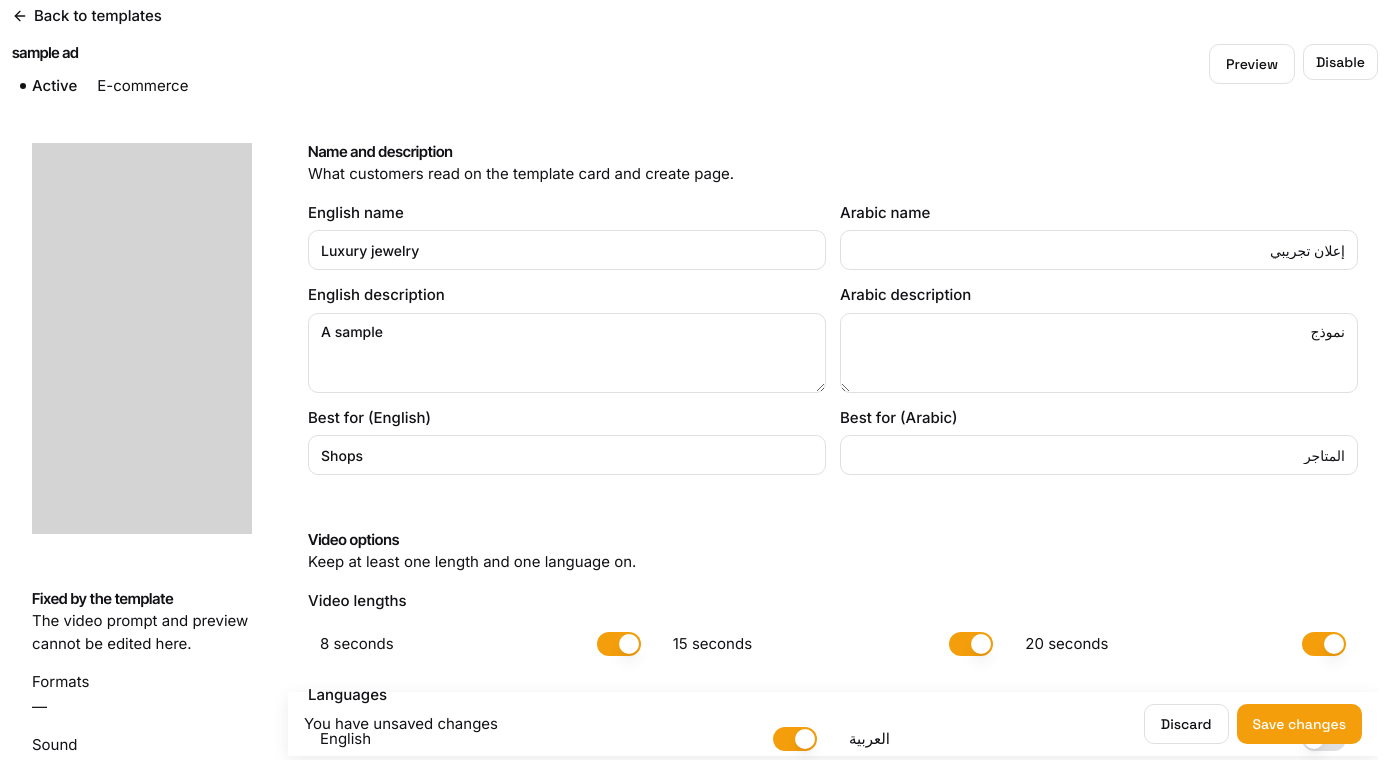
Test: simple template availability › saves names, description, category, languages and lengths with one save
Earlier steps of the test are not shown.
Click the switch named "8 seconds".
click(619, 644)  # box x1=597 y1=632 x2=641 y2=656
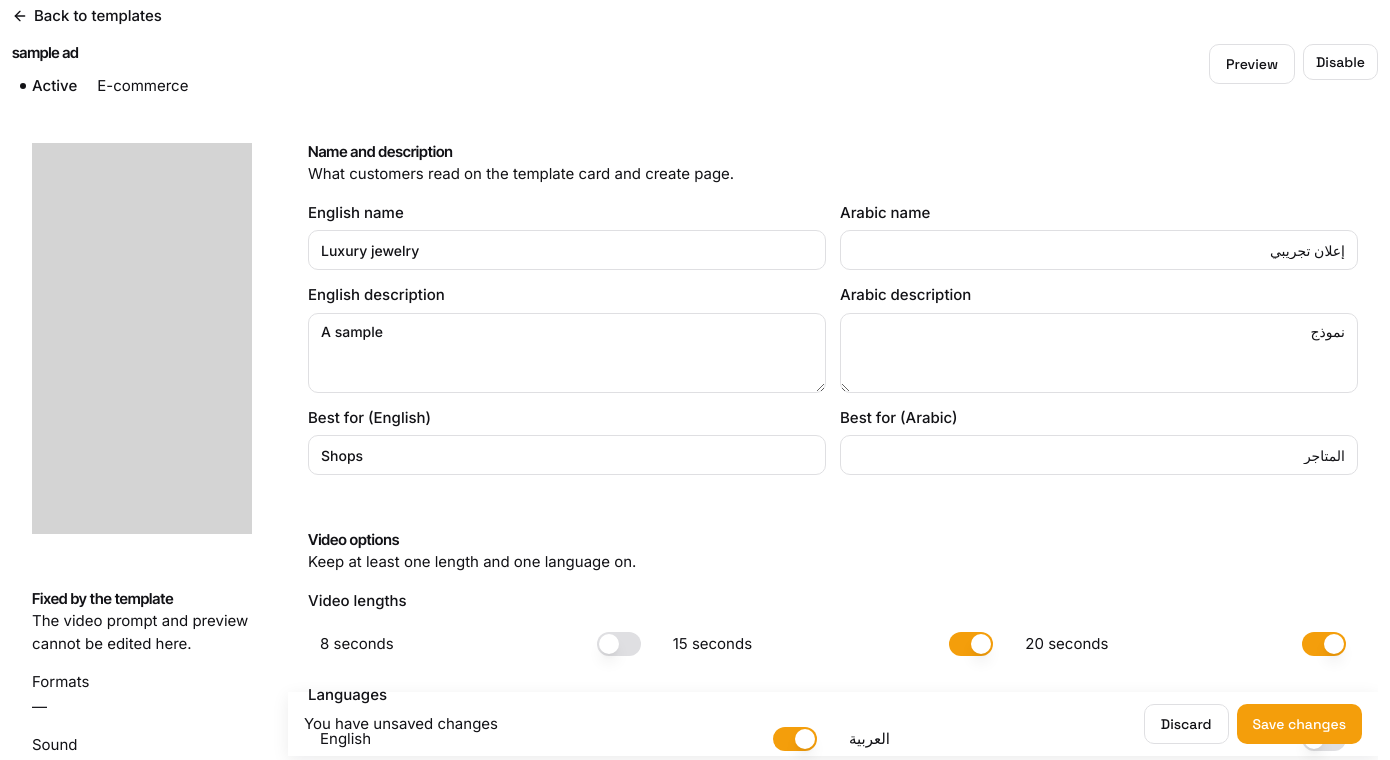
Click the button "Save changes".
click(1299, 724)  # box x1=1237 y1=704 x2=1362 y2=744
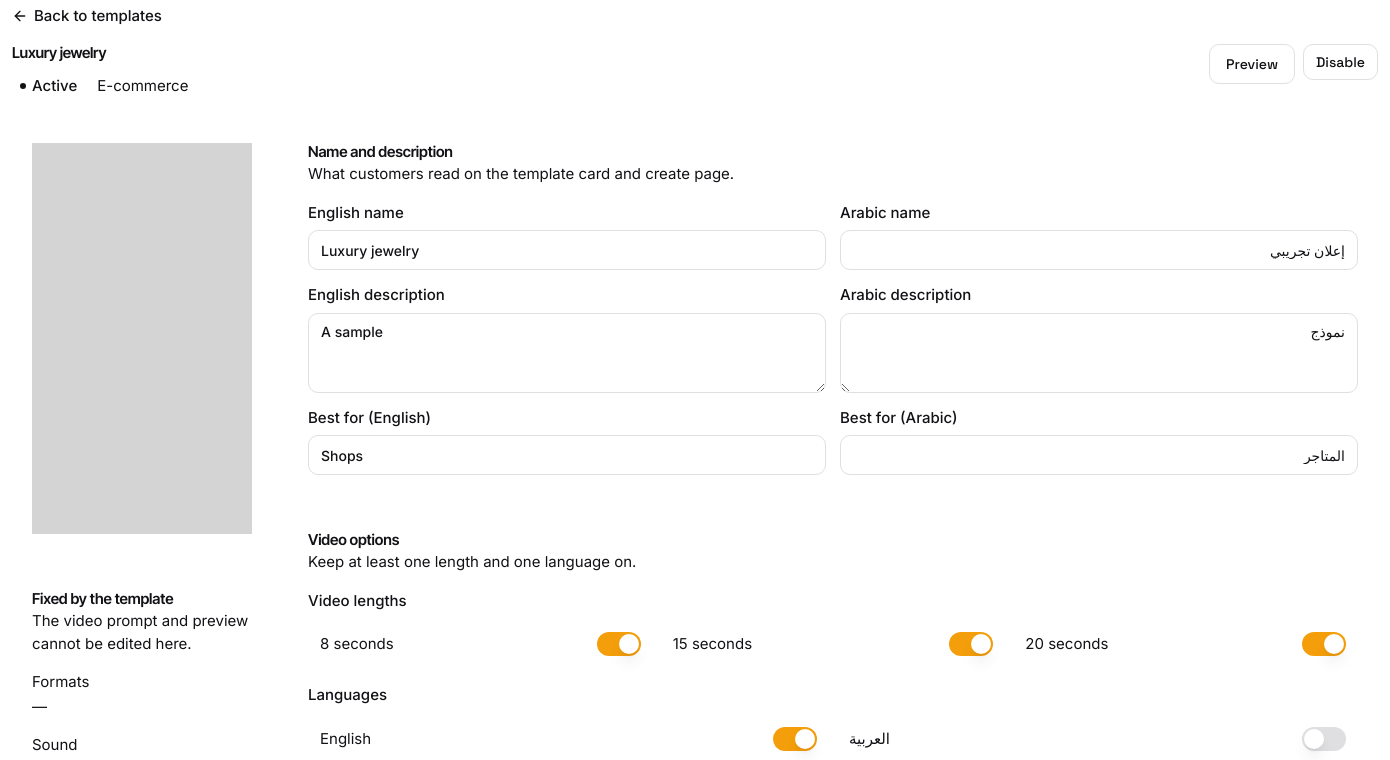
Check: the heading "Luxury jewelry" is shown, box x1=12 y1=43 x2=106 y2=62
